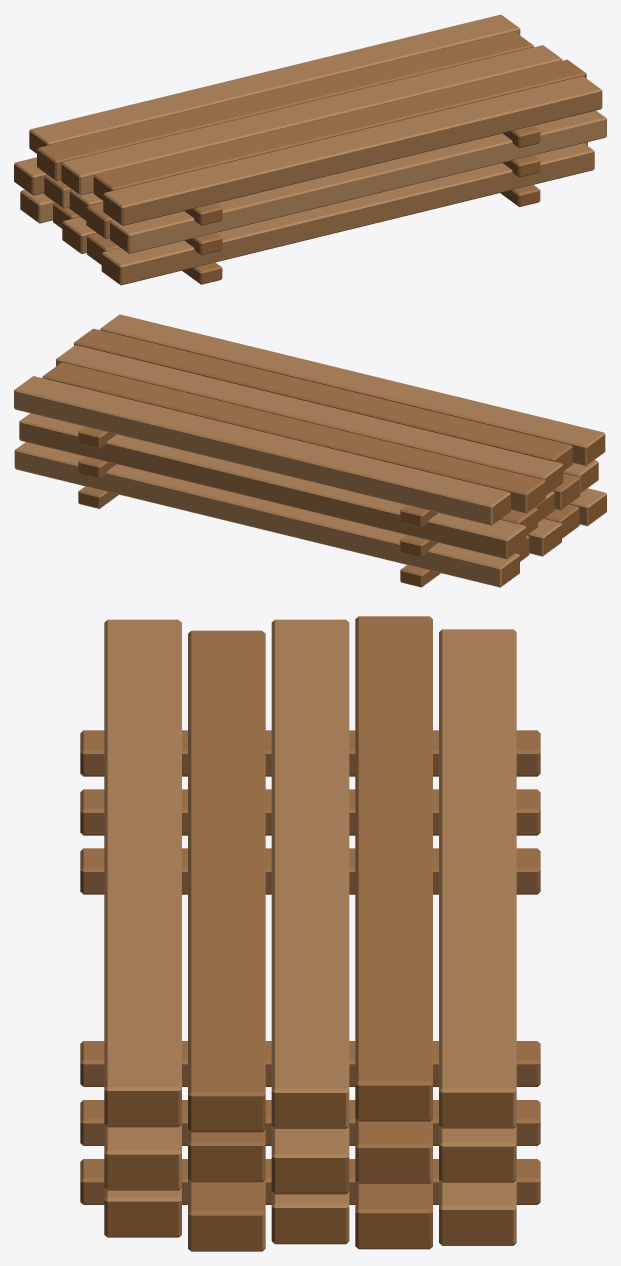
The model's file is Timber Plank Stack.glb.
3 renders of one model, top to bottom at view 1: azimuth 30°, elevation 25°; view 2: azimuth 150°, elevation 25°; view 3: azimuth 270°, elevation 25°, orthographic. The views are drawn at different scales.
Parts seen in each view (by area): view 1: Timber Plank Stack.Static; view 2: Timber Plank Stack.Static; view 3: Timber Plank Stack.Static.
Boxes of the visible parts, box(x1,y1,x2,y2) form: Timber Plank Stack.Static: box(14, 14, 606, 285); Timber Plank Stack.Static: box(14, 314, 606, 587); Timber Plank Stack.Static: box(80, 616, 540, 1251).
Bounding box in the file's own units: 2.08 × 0.3712 × 0.839.
